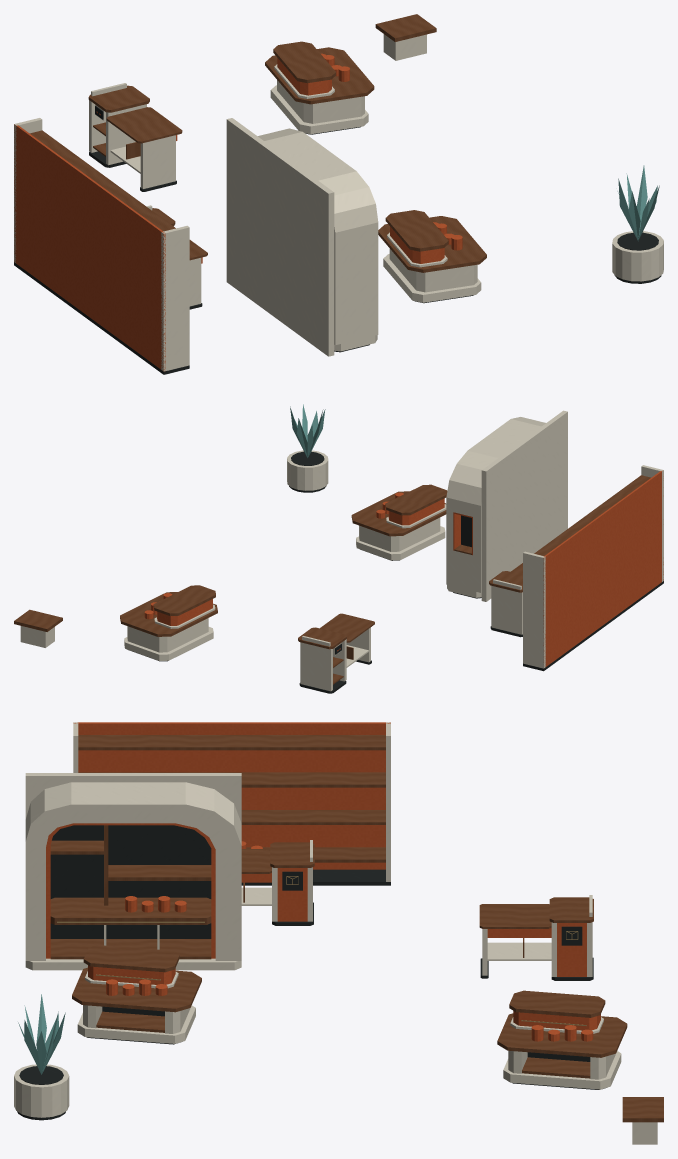
Rendered from SHOP_D09_P100_A366__fitout.glb.
The picture shows the model from 3 angles, top to bottom: view 1: azimuth 30°, elevation 25°; view 2: azimuth 150°, elevation 25°; view 3: azimuth 270°, elevation 25°; orthographic projection. The views are drawn at different scales.
Parts seen in each view (by area): view 1: SHOP_D09_P100_A366__fitout__ivory_enamel, SHOP_D09_P100_A366__fitout__retail_terracotta_enamel, SHOP_D09_P100_A366__fitout__warm_walnut, SHOP_D09_P100_A366__fitout__dark_rubber, SHOP_D09_P100_A366__fitout__quiet_teal; view 2: SHOP_D09_P100_A366__fitout__ivory_enamel, SHOP_D09_P100_A366__fitout__retail_terracotta_enamel, SHOP_D09_P100_A366__fitout__warm_walnut, SHOP_D09_P100_A366__fitout__dark_rubber, SHOP_D09_P100_A366__fitout__quiet_teal; view 3: SHOP_D09_P100_A366__fitout__warm_walnut, SHOP_D09_P100_A366__fitout__ivory_enamel, SHOP_D09_P100_A366__fitout__retail_terracotta_enamel, SHOP_D09_P100_A366__fitout__dark_rubber, SHOP_D09_P100_A366__fitout__quiet_teal, SHOP_D09_P100_A366__fitout__champagne_metal.
Boxes of the visible parts, bbox=[...] form: SHOP_D09_P100_A366__fitout__ivory_enamel: bbox=[14, 34, 663, 371]; SHOP_D09_P100_A366__fitout__retail_terracotta_enamel: bbox=[14, 53, 462, 371]; SHOP_D09_P100_A366__fitout__warm_walnut: bbox=[30, 14, 486, 272]; SHOP_D09_P100_A366__fitout__dark_rubber: bbox=[14, 106, 661, 374]; SHOP_D09_P100_A366__fitout__quiet_teal: bbox=[617, 165, 659, 240]; SHOP_D09_P100_A366__fitout__ivory_enamel: bbox=[20, 410, 663, 691]; SHOP_D09_P100_A366__fitout__retail_terracotta_enamel: bbox=[144, 471, 663, 666]; SHOP_D09_P100_A366__fitout__warm_walnut: bbox=[14, 475, 650, 684]; SHOP_D09_P100_A366__fitout__dark_rubber: bbox=[128, 451, 663, 693]; SHOP_D09_P100_A366__fitout__quiet_teal: bbox=[290, 404, 325, 457]; SHOP_D09_P100_A366__fitout__warm_walnut: bbox=[50, 735, 663, 1122]; SHOP_D09_P100_A366__fitout__ivory_enamel: bbox=[14, 722, 657, 1144]; SHOP_D09_P100_A366__fitout__retail_terracotta_enamel: bbox=[46, 722, 600, 1041]; SHOP_D09_P100_A366__fitout__dark_rubber: bbox=[17, 825, 605, 1120]; SHOP_D09_P100_A366__fitout__quiet_teal: bbox=[18, 994, 65, 1074]; SHOP_D09_P100_A366__fitout__champagne_metal: bbox=[57, 876, 586, 1025].
Bounding box in the file's own units: 10.25 × 3 × 10.24.
6 materials, 5 textured.
